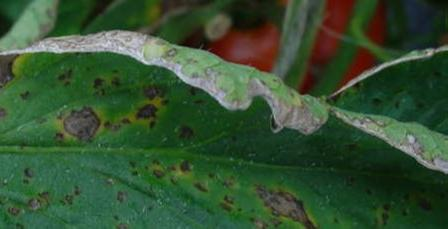Tomato Septoria leaf spot: (0, 13, 448, 229)
